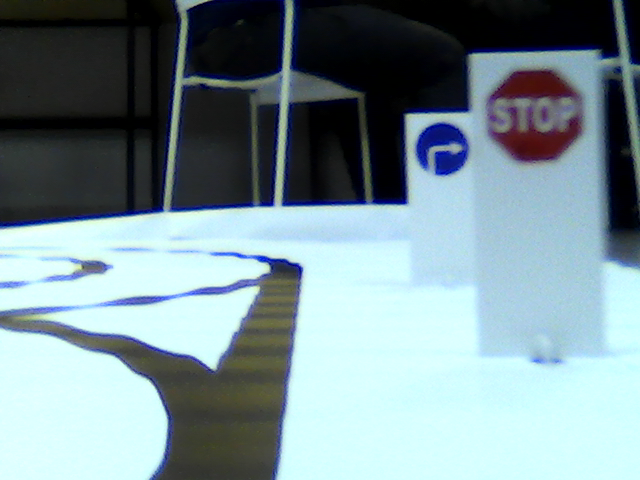Right: (414, 119, 468, 175)
Stop: (486, 68, 586, 164)
